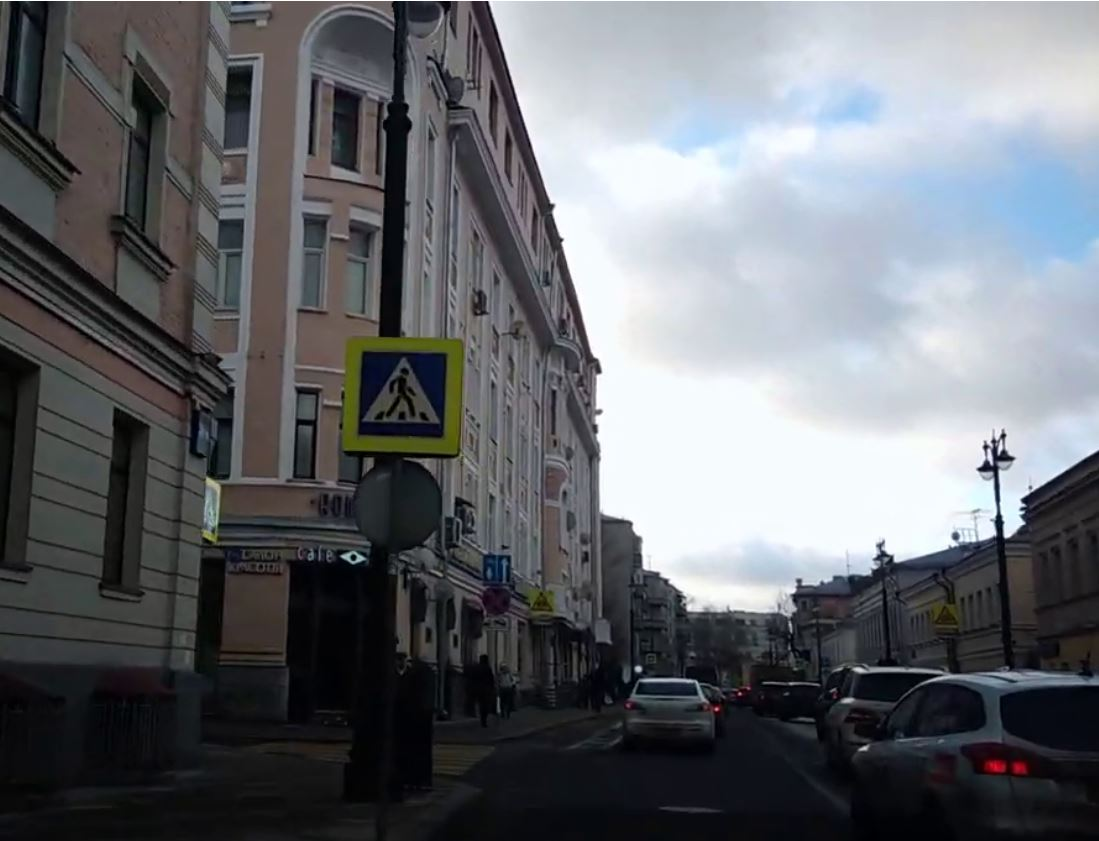Yaya Gecidi: (364, 346, 451, 441)
